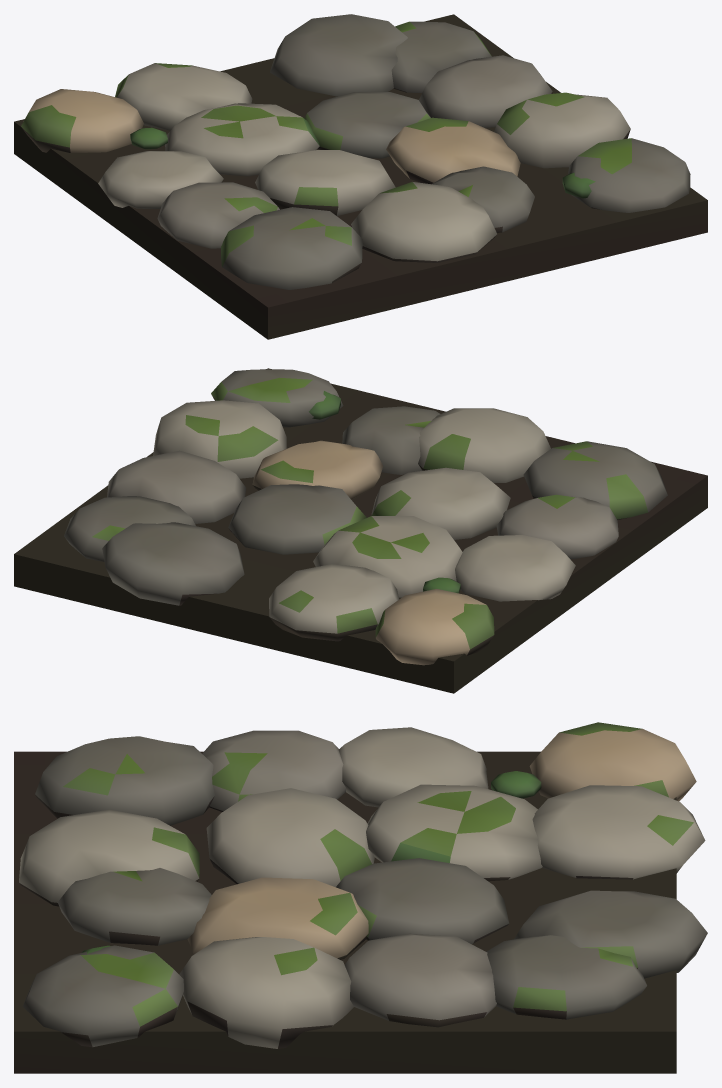
Rendered from kit_floor3.glb.
3 views of the same model, one above another, from view 1: azimuth 30°, elevation 25°; view 2: azimuth 150°, elevation 25°; view 3: azimuth 270°, elevation 25° (orthographic). The views are drawn at different scales.
Parts seen in each view (by area): view 1: kit_floor3; view 2: kit_floor3; view 3: kit_floor3.
Part boxes in pixels (<box>): kit_floor3: <box>14,14,707,339</box>; kit_floor3: <box>14,368,707,693</box>; kit_floor3: <box>14,722,707,1073</box>.
Size of the model in its own units: 1.05 by 0.1428 by 1.05.
